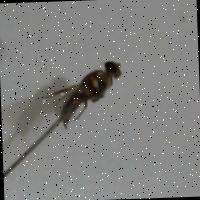Oriental-fruit-fly: (34, 43, 126, 134)
